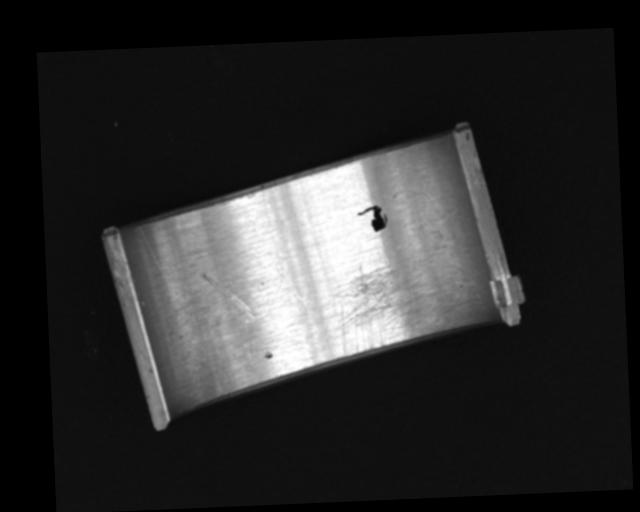blot: (356, 204, 388, 233)
bruise: (261, 350, 272, 360)
nick: (259, 185, 308, 307), (137, 221, 187, 313), (201, 270, 256, 320), (242, 314, 257, 370)
scratch: (327, 261, 454, 357)
